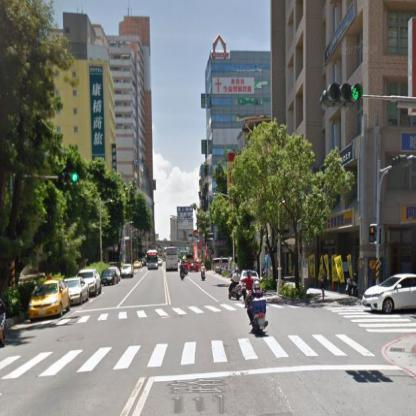Green Light: (320, 87, 362, 106), (58, 172, 80, 183)
